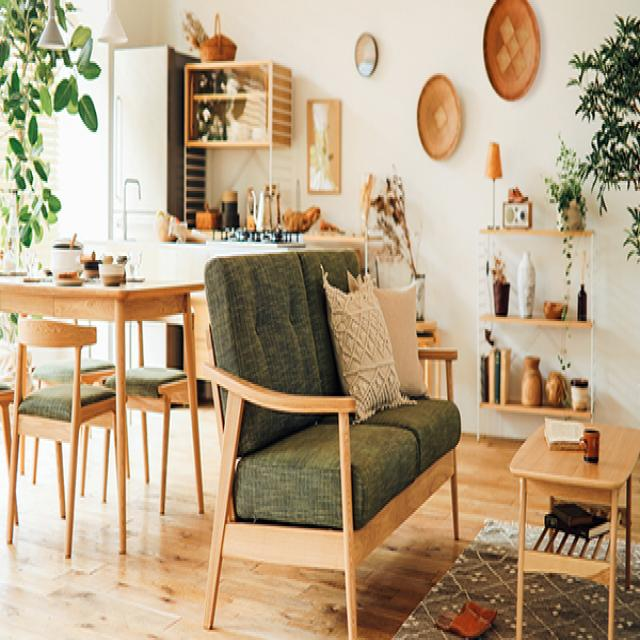natural chair: (5, 312, 112, 564)
natural desk: (0, 264, 205, 553), (508, 413, 636, 640)
natural shelf: (476, 215, 591, 416)
natural sofa: (201, 237, 458, 640)
